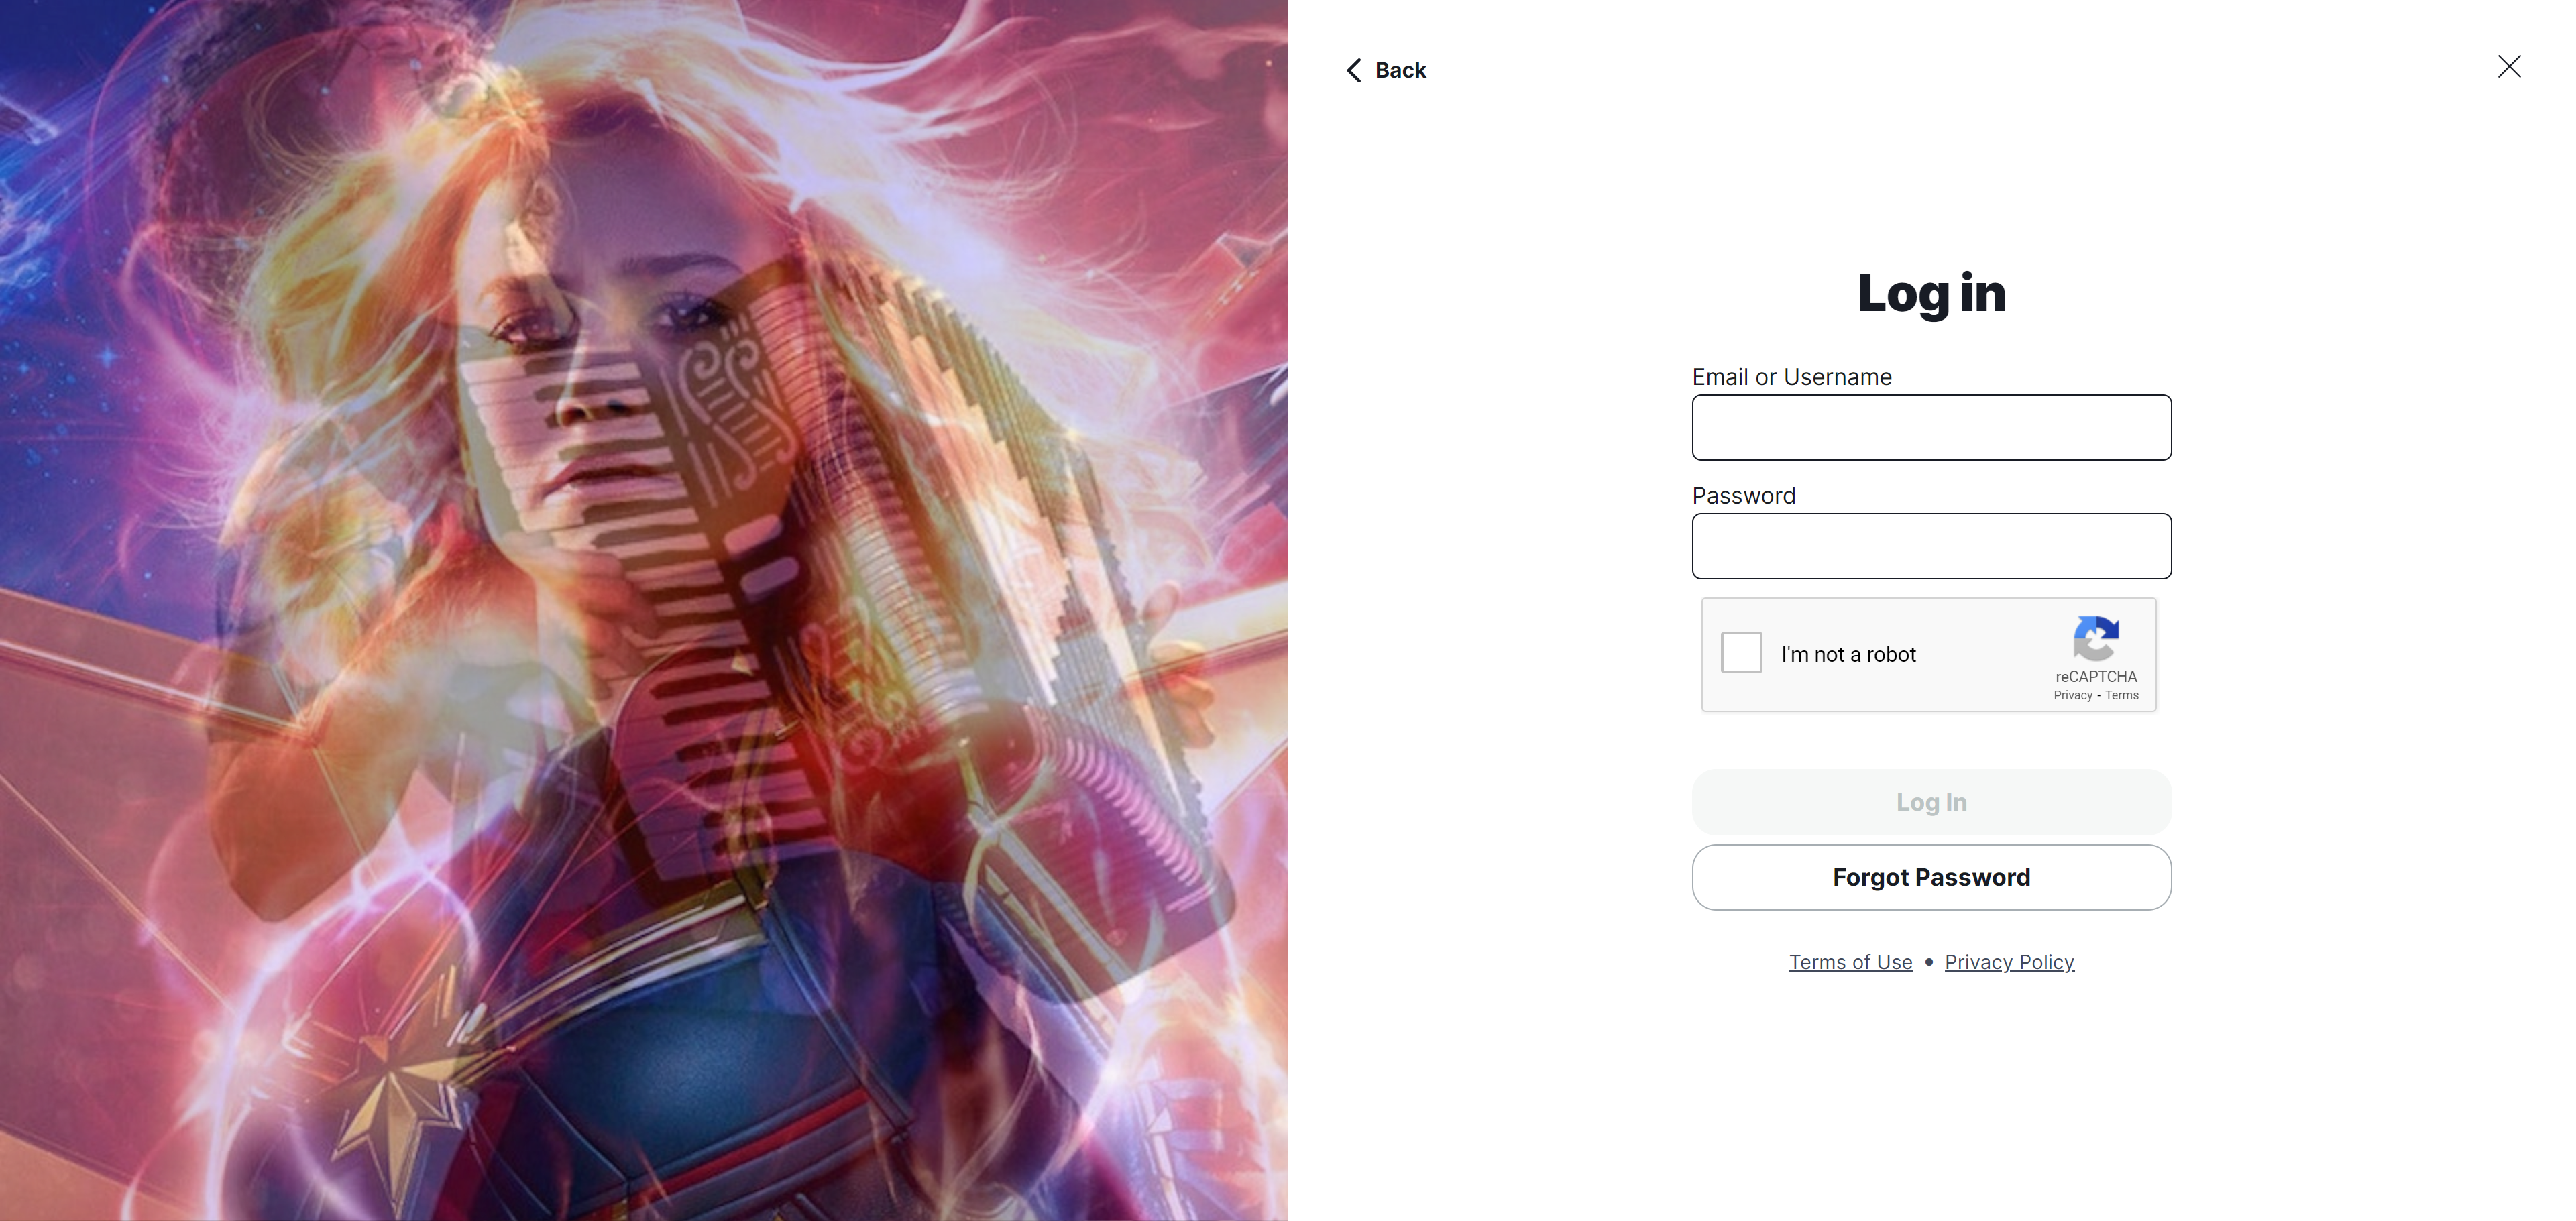login_button: (1692, 769, 2173, 835)
login_form: (1684, 360, 2180, 838)
